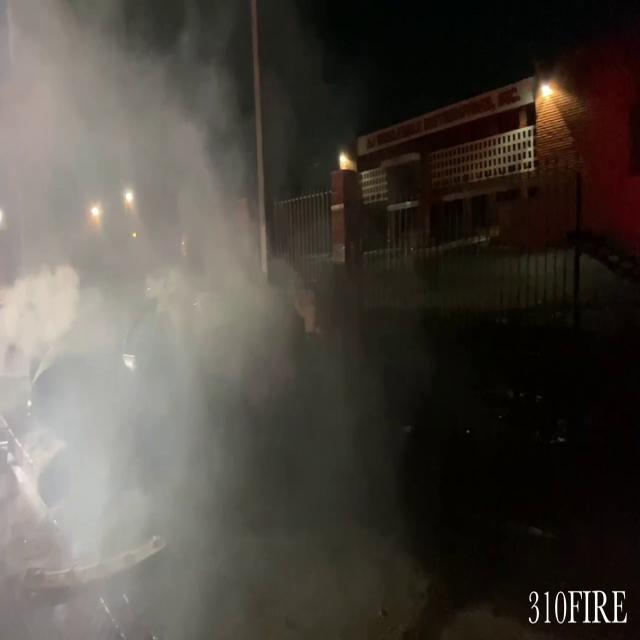Smoke: (0, 10, 342, 640)
